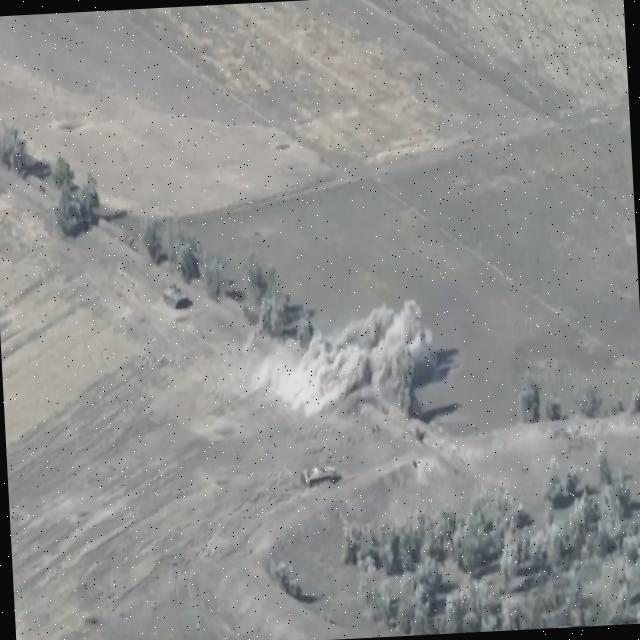AIFV: (300, 457, 340, 495), (163, 283, 192, 316)
